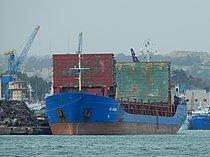Ship: (38, 44, 192, 138)
